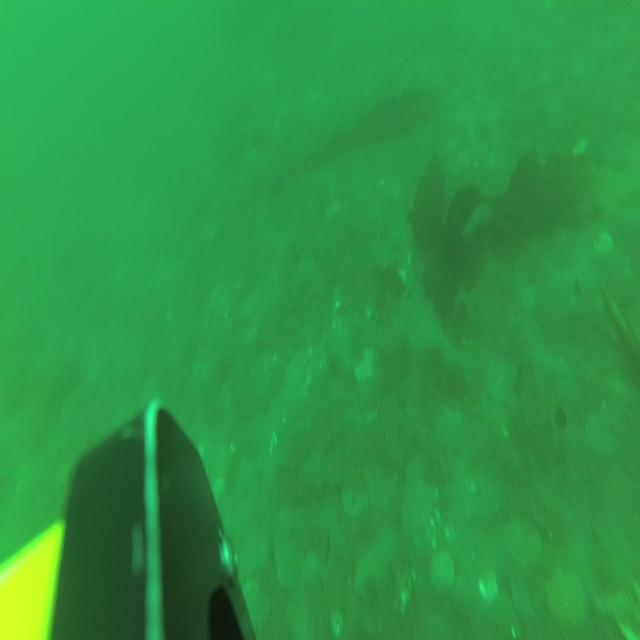holothurian: (591, 580, 639, 623)
scallop: (504, 512, 546, 570), (583, 404, 621, 462), (399, 488, 437, 538), (548, 570, 582, 620), (237, 529, 269, 581), (354, 550, 384, 602), (276, 537, 304, 592), (436, 407, 466, 455), (241, 578, 266, 626), (431, 553, 456, 599)
